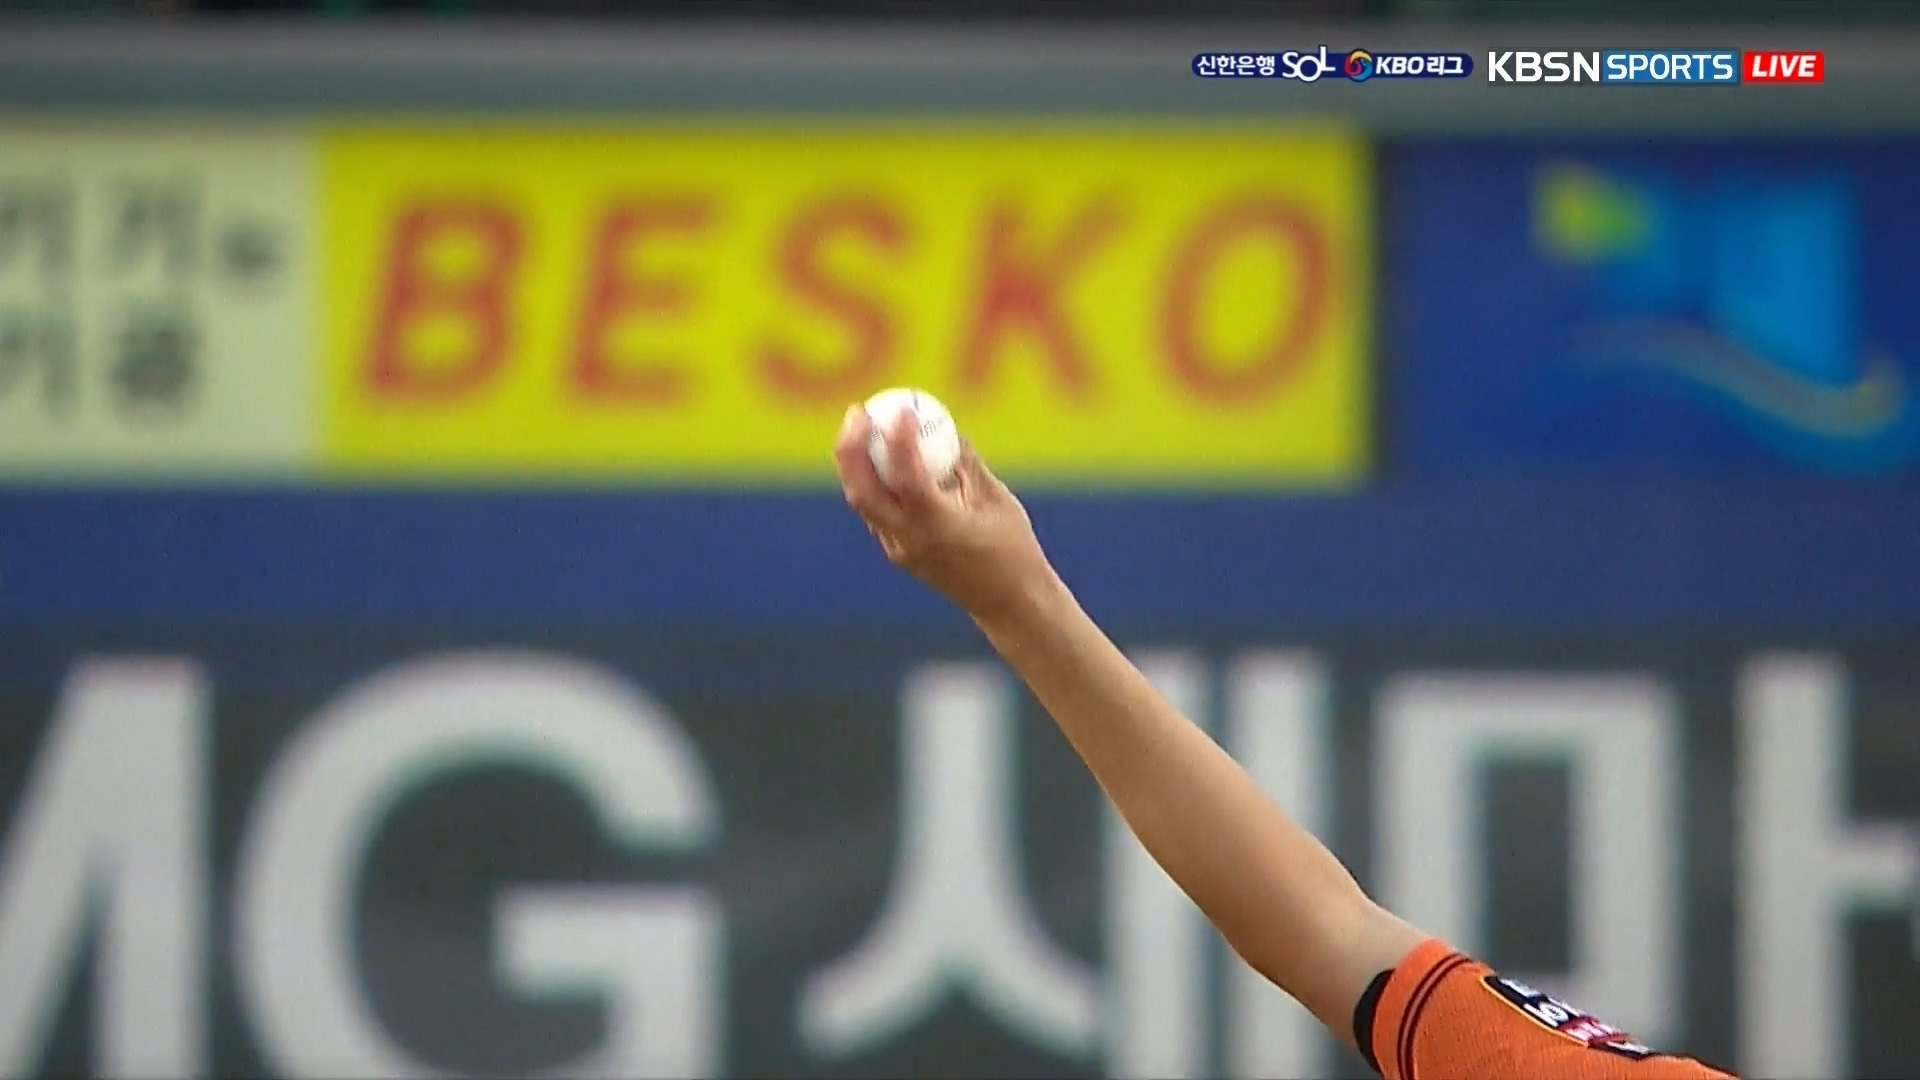zoomin_hand: (794, 364, 1357, 992)
